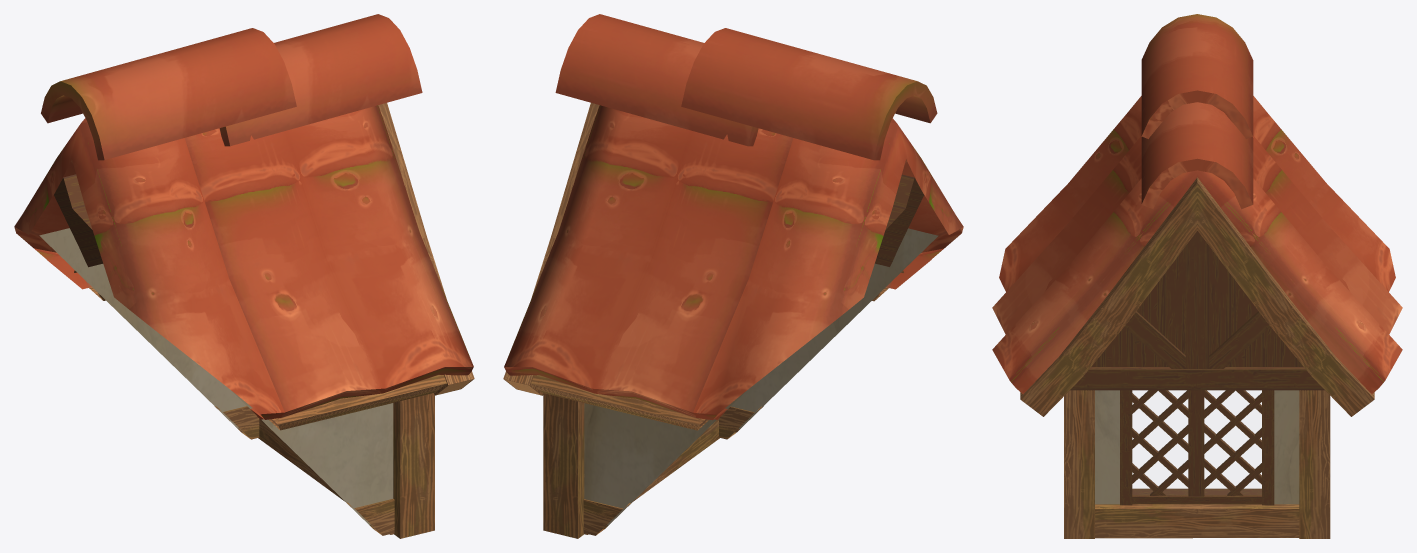
The model's file is Roof_Dormer_RoundTile.gltf.
3 views of the same model, side by side, from view 1: azimuth 30°, elevation 25°; view 2: azimuth 150°, elevation 25°; view 3: azimuth 270°, elevation 25° (orthographic). The views are drawn at different scales.
Parts seen in each view (by area): view 1: Roof_Dormer_RoundTile; view 2: Roof_Dormer_RoundTile; view 3: Roof_Dormer_RoundTile.
Part boxes in pixels (x1,y1,x2,y2): Roof_Dormer_RoundTile: (14,14,474,538); Roof_Dormer_RoundTile: (503,14,963,538); Roof_Dormer_RoundTile: (992,14,1402,538).
Bounding box in the file's own units: 1.97 × 2.67 × 2.44.
4 materials, 3 textured.
